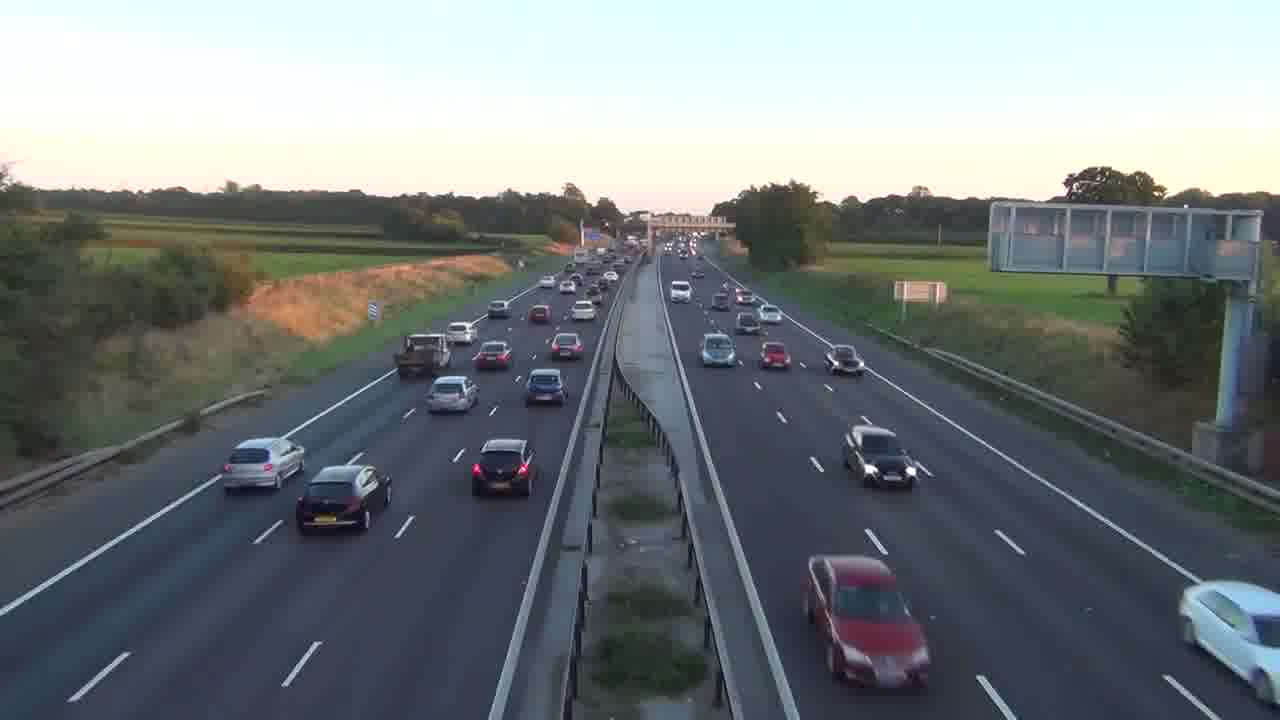car: (801, 553, 933, 693), (1177, 578, 1280, 708), (295, 461, 392, 535), (841, 423, 919, 489), (220, 435, 306, 491), (469, 436, 540, 497), (423, 374, 479, 414), (524, 367, 567, 405), (699, 332, 740, 367), (472, 340, 513, 370), (548, 331, 584, 361), (758, 341, 792, 371)
